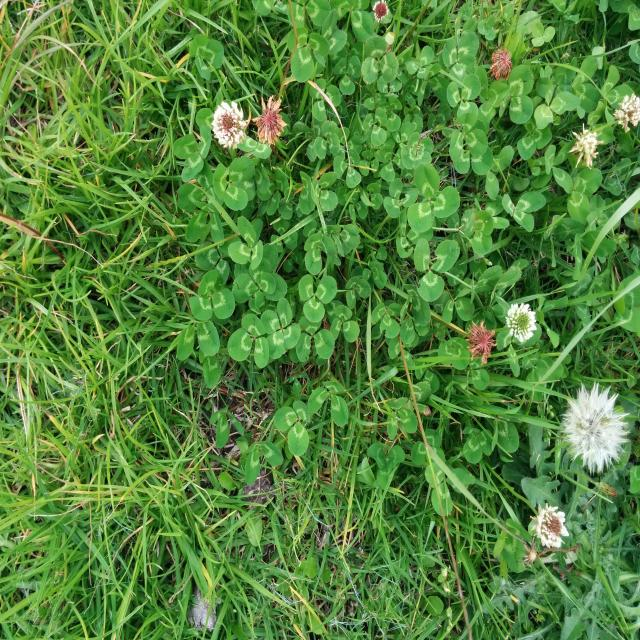Four Leaf Clover: (261, 298, 300, 359)
